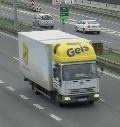truck: (18, 31, 100, 106)
